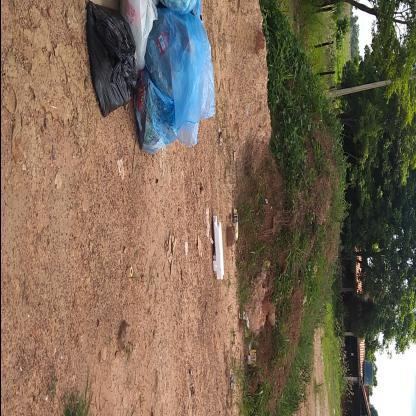lixo: (91, 7, 214, 139)
